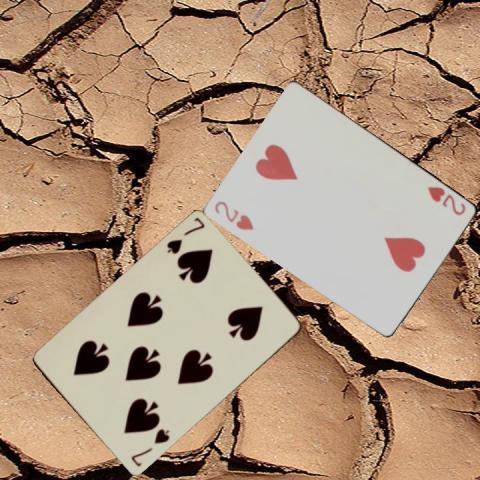2h: (212, 198, 256, 232), (425, 183, 468, 217)
7s: (128, 426, 171, 469), (163, 215, 207, 256)
